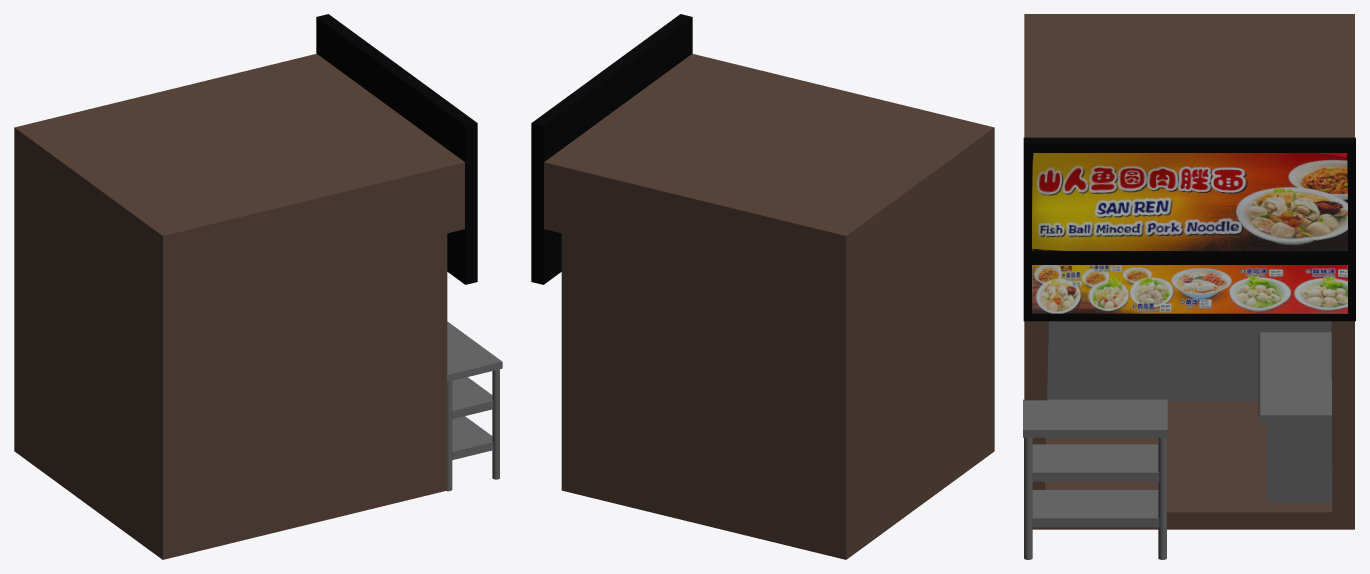
File: sanrenmincedporknoodle.fbx
The picture shows the model from 3 angles, left to right: view 1: azimuth 30°, elevation 25°; view 2: azimuth 150°, elevation 25°; view 3: azimuth 270°, elevation 25°; orthographic projection. The views are drawn at different scales.
Visible parts, largest first — view 1: MainStructure, TitleBackGround, cupboard, TitleBackGround.001; view 2: MainStructure, TitleBackGround, TitleBackGround.001; view 3: MainStructure, Title, cupboard.001, cupboard, Title.001, cupboard.002, TitleBackGround, TitleBackGround.001.
Boxes of the visible parts, bbox=[...] form: MainStructure: bbox=[14, 53, 464, 559]; TitleBackGround: bbox=[316, 14, 477, 230]; cupboard: bbox=[446, 321, 502, 491]; TitleBackGround.001: bbox=[447, 228, 477, 284]; MainStructure: bbox=[544, 53, 994, 559]; TitleBackGround: bbox=[531, 14, 692, 230]; TitleBackGround.001: bbox=[531, 228, 561, 284]; MainStructure: bbox=[1024, 14, 1354, 529]; Title: bbox=[1032, 153, 1347, 250]; cupboard.001: bbox=[1047, 321, 1331, 401]; cupboard: bbox=[1023, 399, 1167, 559]; Title.001: bbox=[1032, 265, 1347, 313]; cupboard.002: bbox=[1258, 332, 1332, 502]; TitleBackGround: bbox=[1023, 137, 1355, 260]; TitleBackGround.001: bbox=[1023, 260, 1355, 321].
Bounding box in the file's own units: 628 × 640 × 479.
